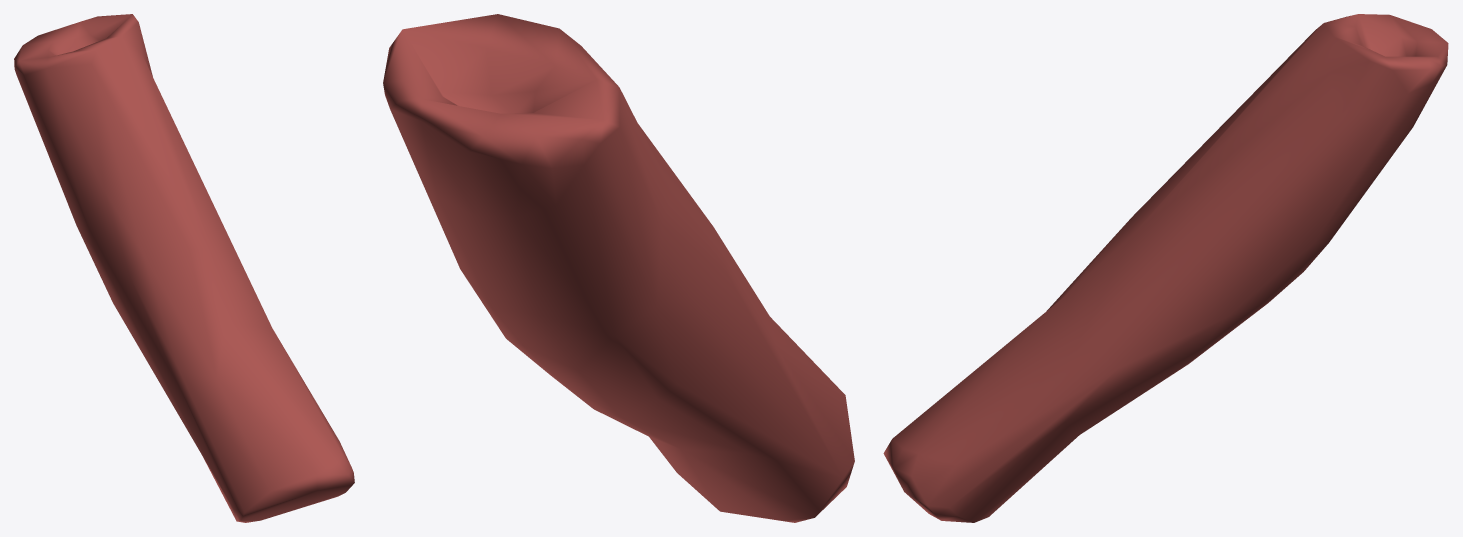
Rendered from FMA14332.glb.
The picture shows the model from 3 angles, left to right: view 1: azimuth 30°, elevation 25°; view 2: azimuth 150°, elevation 25°; view 3: azimuth 270°, elevation 25°; orthographic projection. The views are drawn at different scales.
Parts seen in each view (by area): view 1: FMA14332; view 2: FMA14332; view 3: FMA14332.
Boxes of the visible parts, x1,y1,x2,y2 form: FMA14332: (14, 14, 354, 522); FMA14332: (383, 14, 854, 522); FMA14332: (883, 14, 1448, 522).
Bounding box in the file's own units: 0.00969 × 0.0231 × 0.0251.
